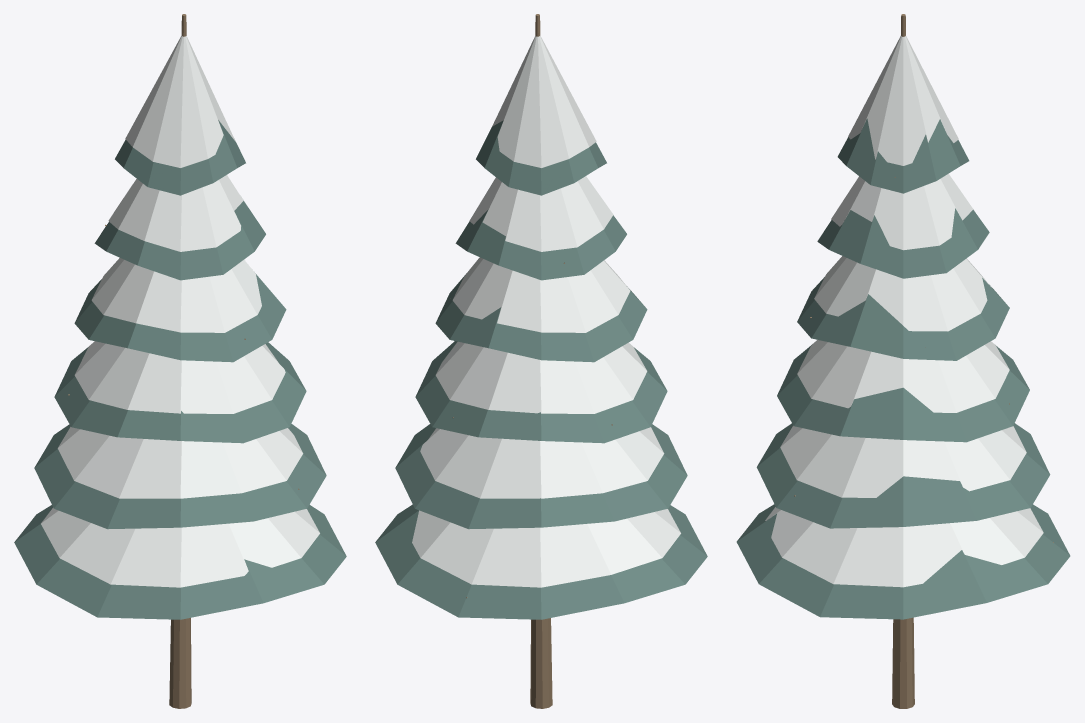
3 views of the same model, side by side, from view 1: azimuth 30°, elevation 25°; view 2: azimuth 150°, elevation 25°; view 3: azimuth 270°, elevation 25° (orthographic).
Bounding box in the file's own units: 9.37 × 21.4 × 9.37.
